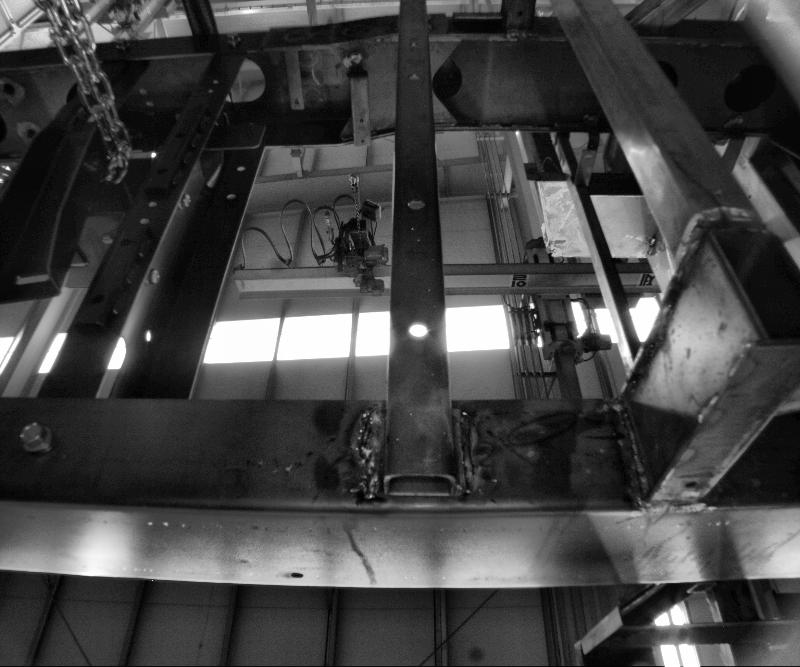bolt: (12, 417, 48, 447), (138, 263, 158, 282), (176, 191, 194, 211)
bracket: (342, 52, 372, 152), (284, 43, 310, 108), (568, 139, 604, 184)
hole: (402, 310, 430, 337), (138, 322, 154, 343), (686, 476, 698, 488), (583, 152, 593, 158), (290, 572, 302, 577), (358, 117, 364, 124), (358, 137, 366, 142), (293, 98, 299, 104)
welding: (447, 401, 486, 488), (356, 400, 376, 500)
